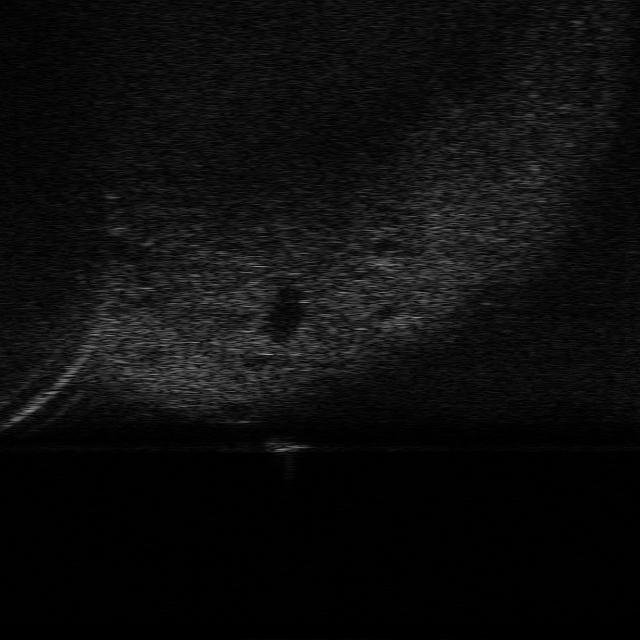cube: (264, 435, 308, 453)
